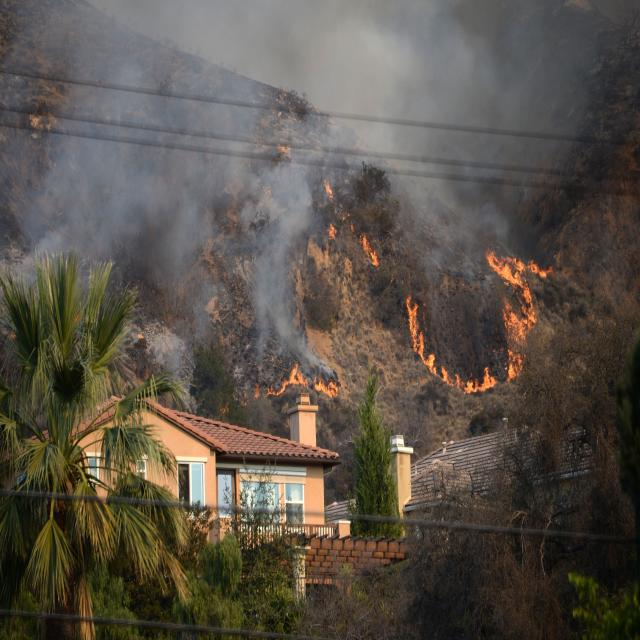Fire: (476, 244, 555, 397), (396, 298, 477, 421), (262, 361, 344, 412)
Smoke: (0, 0, 564, 337), (315, 173, 341, 215), (353, 226, 379, 267), (320, 220, 344, 240)
